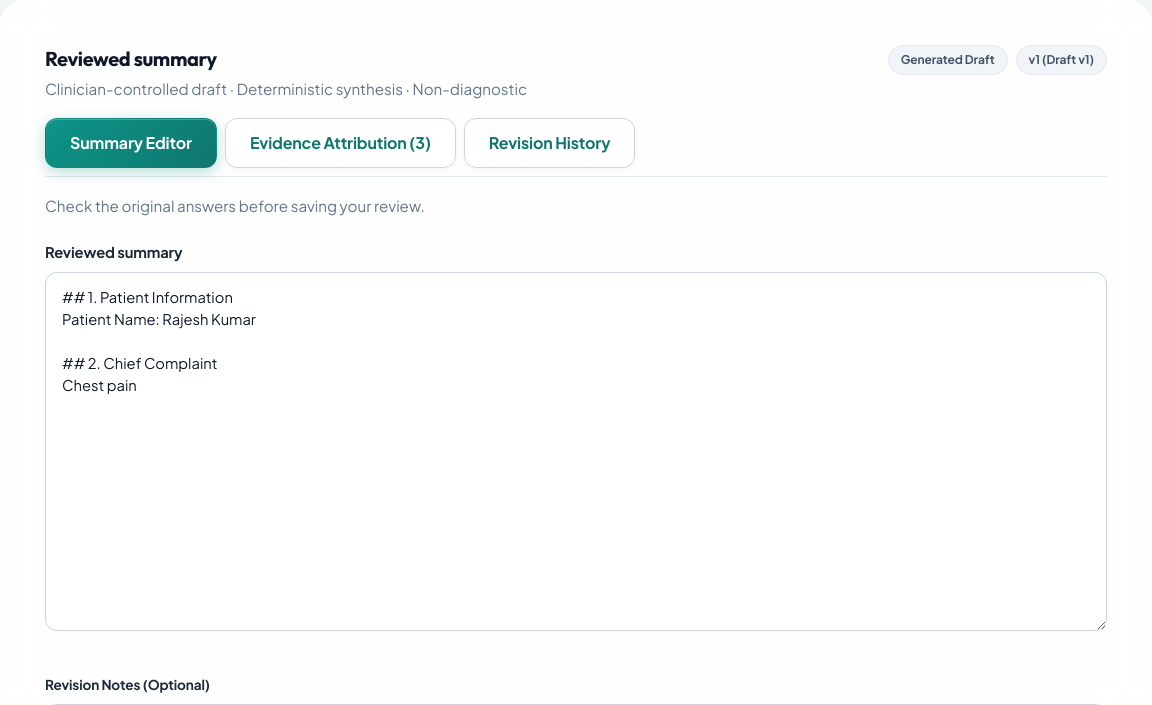
Phase 8 SummaryWorkspace Component › allows editing working draft, inputting revision notes, and saving
This screenshot has width=1152, height=705.
Replace the text in the text box labelled "Reviewed summary" with "Doctor amended text" at (576, 451), box [45,272,1107,631]
(page scrolled)
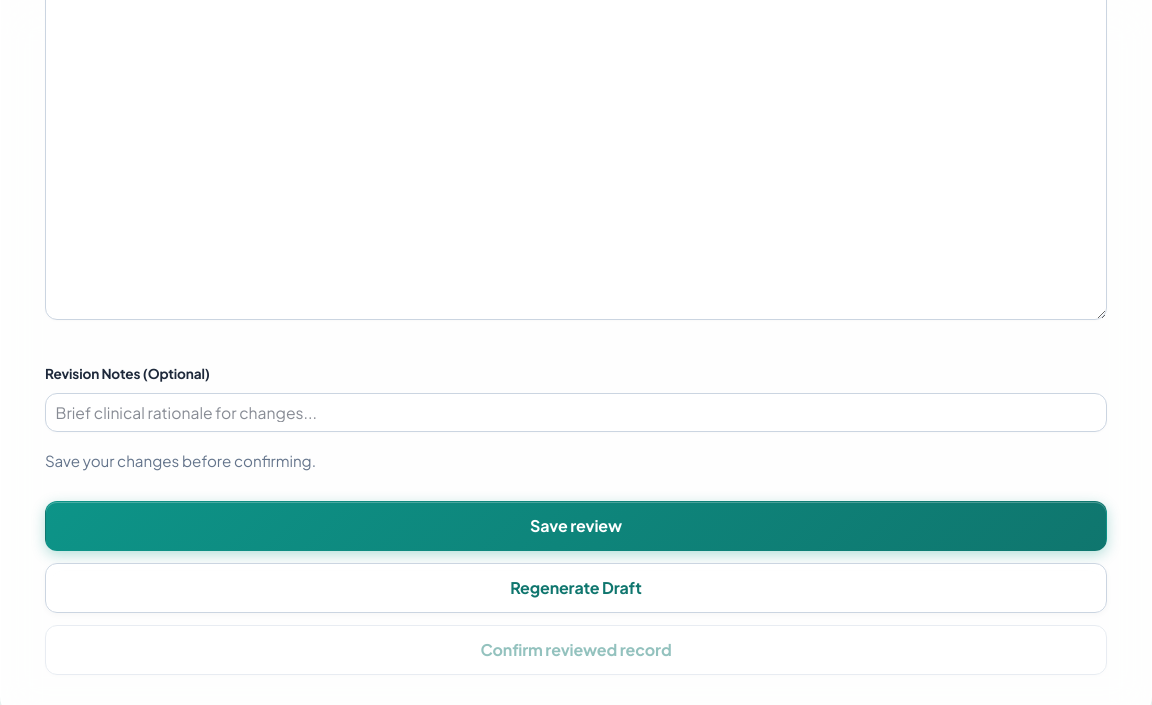
Type "Verified cardiac history" into the field with placeholder "Brief clinical rationale for changes..." at (576, 412), box [45,393,1107,432]
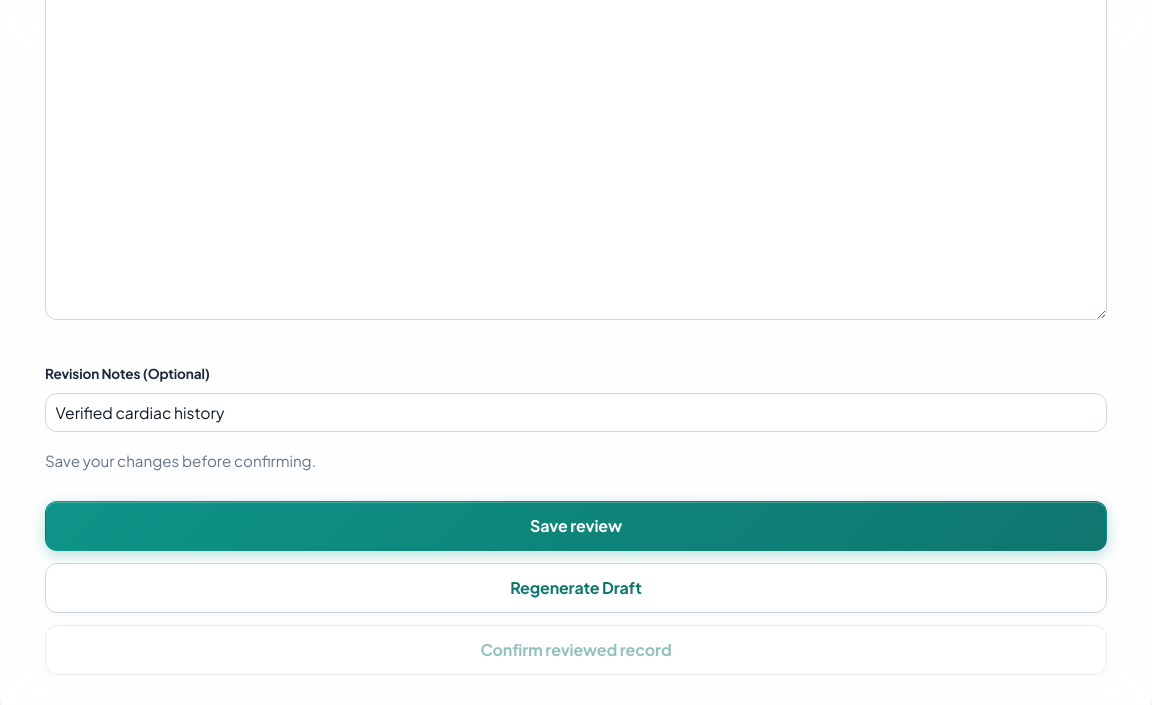
Click the button "Save review" at (576, 526), box [45,502,1107,552]
(page scrolled)
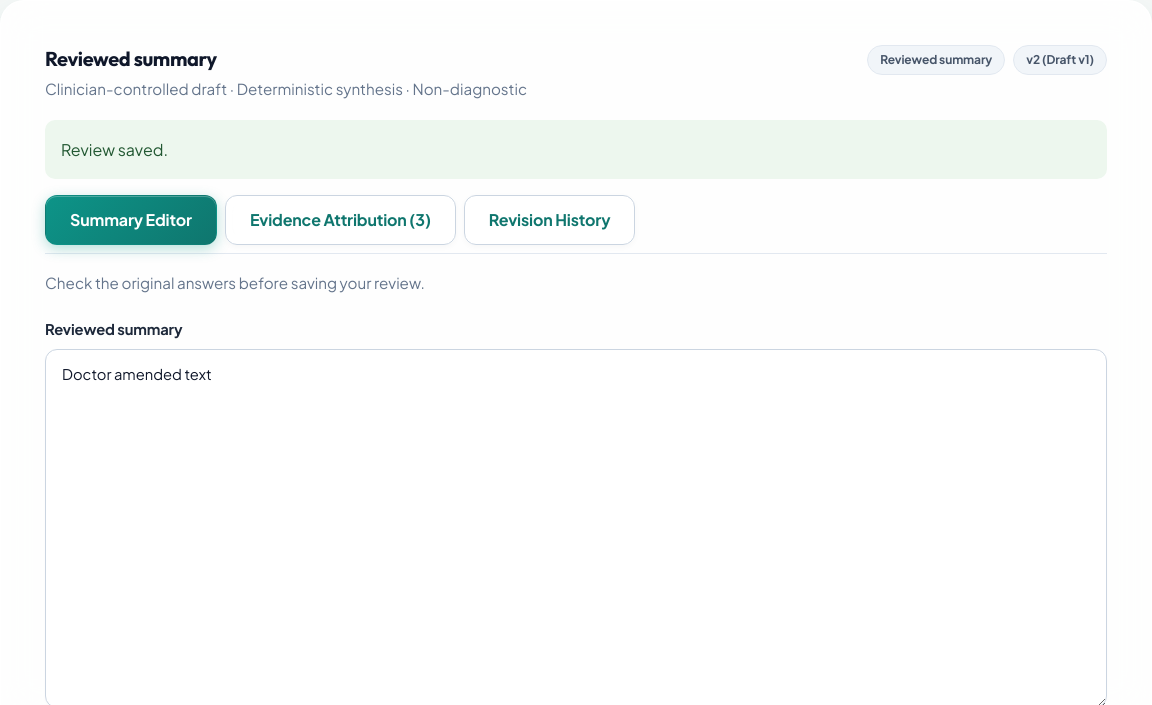
Expected: the text "Review saved." is shown, [45,120,1107,179]
